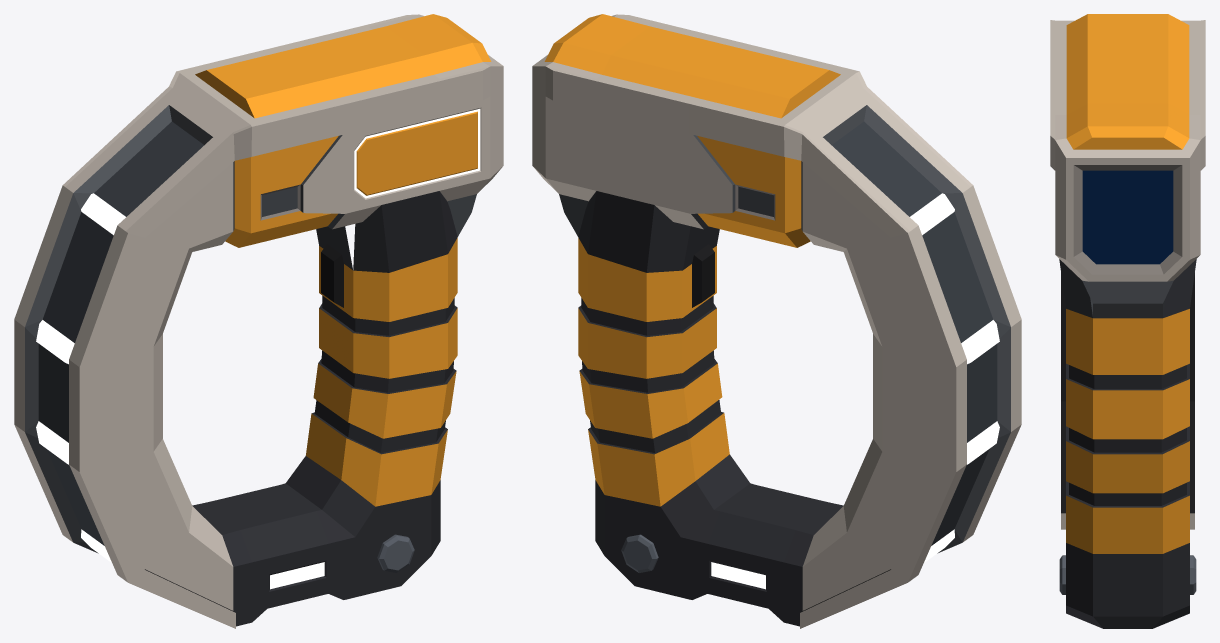
Rendered from SM_X-ray.glb.
The picture shows the model from 3 angles, left to right: view 1: azimuth 30°, elevation 25°; view 2: azimuth 150°, elevation 25°; view 3: azimuth 270°, elevation 25°; orthographic projection. The views are drawn at different scales.
Visible parts, largest first — view 1: SM_X-ray; view 2: SM_X-ray; view 3: SM_X-ray.
Boxes of the visible parts, x1,y1,x2,y2 form: SM_X-ray: (14,14,503,628); SM_X-ray: (532,14,1021,628); SM_X-ray: (1050,14,1205,628).
Size of the model in its own units: 0.1661 by 0.1919 by 0.0513.
2 materials, 1 textured.
